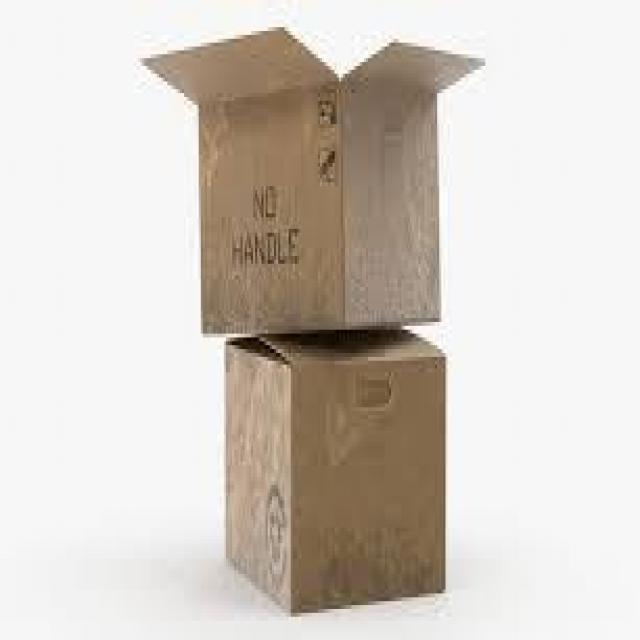box: (142, 27, 483, 345), (220, 334, 446, 621)
